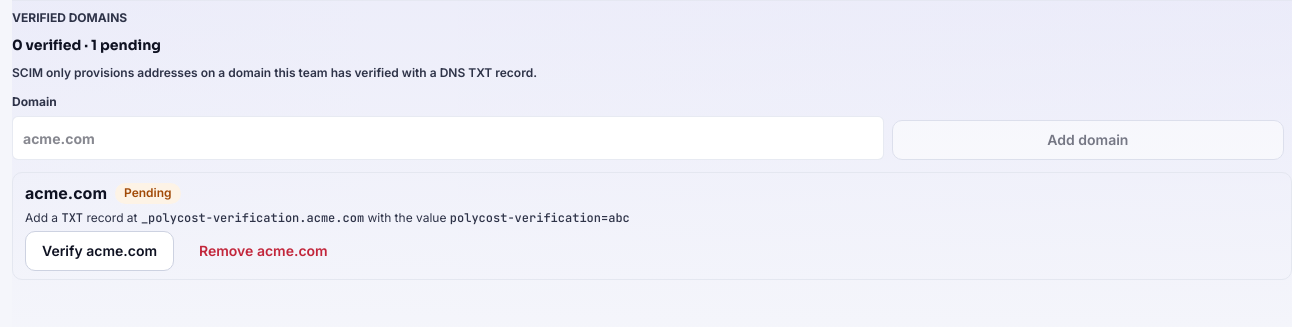
Test case: TeamDomainsPanel › explains a failed check and keeps the domain pending
The width and height of the screenshot is (1292, 327).
Click the button "Verify acme.com" at [100, 251], box [25, 231, 174, 271]
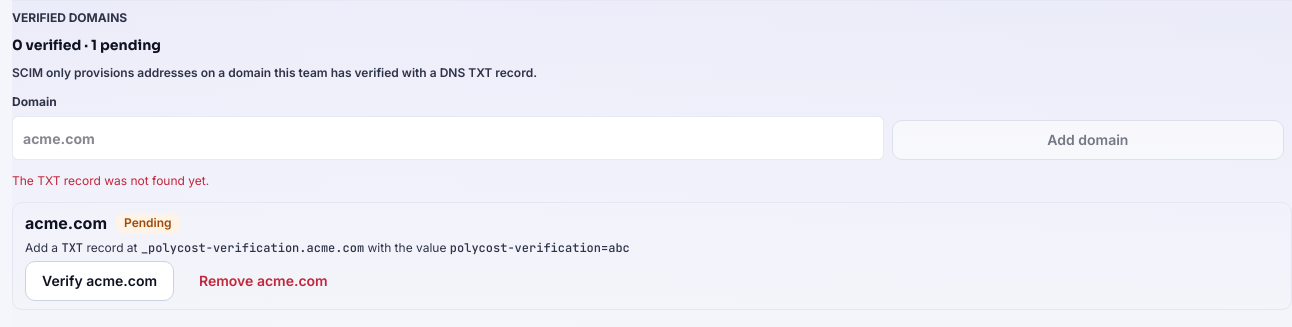
expect the text "Pending" is shown: met, box [115, 213, 181, 234]
expect the message shows "TXT record was not found": met, box [12, 173, 209, 188]
